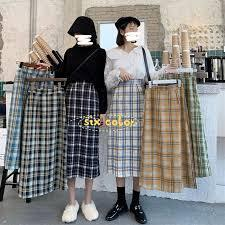skirt: (146, 86, 201, 196), (22, 88, 68, 201), (64, 82, 104, 182), (109, 84, 148, 180)
sweater: (107, 41, 157, 84), (62, 41, 109, 85)
